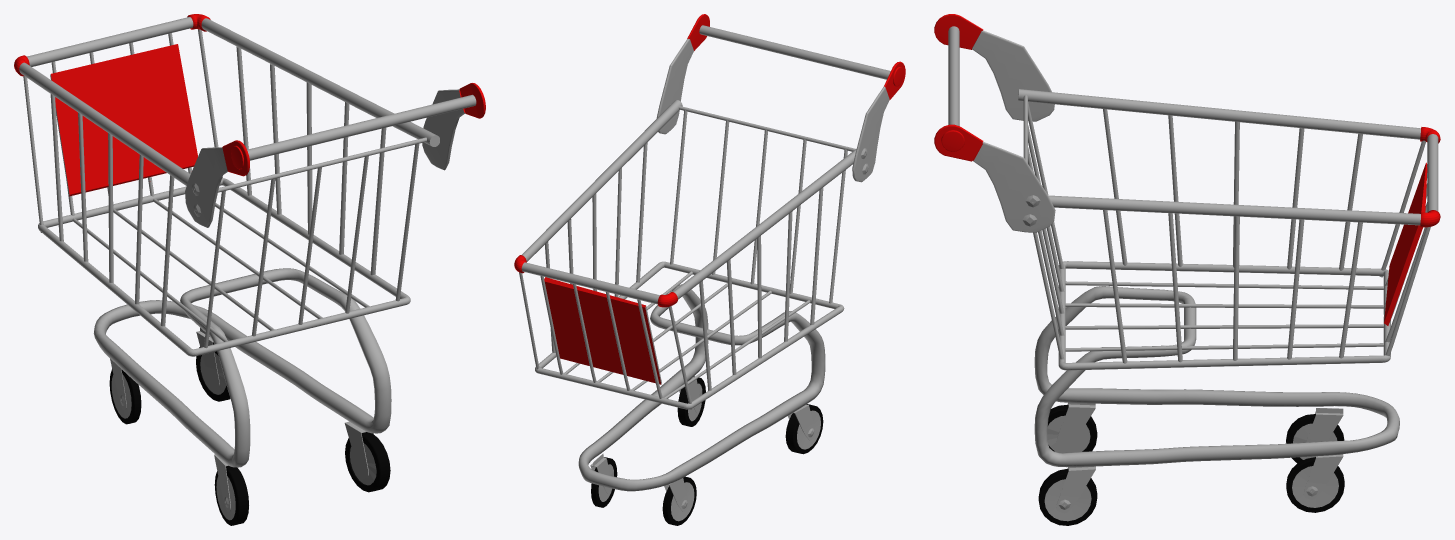
The model's file is Cart_Mesh.fbx.
3 renders of one model, left to right at view 1: azimuth 30°, elevation 25°; view 2: azimuth 150°, elevation 25°; view 3: azimuth 270°, elevation 25°, orthographic. The views are drawn at different scales.
Visible parts, largest first — view 1: Cart; view 2: Cart; view 3: Cart.
Part boxes in pixels (box(x1,y1,x2,y2)): Cart: box(14, 14, 485, 525); Cart: box(514, 14, 905, 525); Cart: box(934, 14, 1440, 525).
Size of the model in its own units: 2.08 by 3.58 by 3.9.
